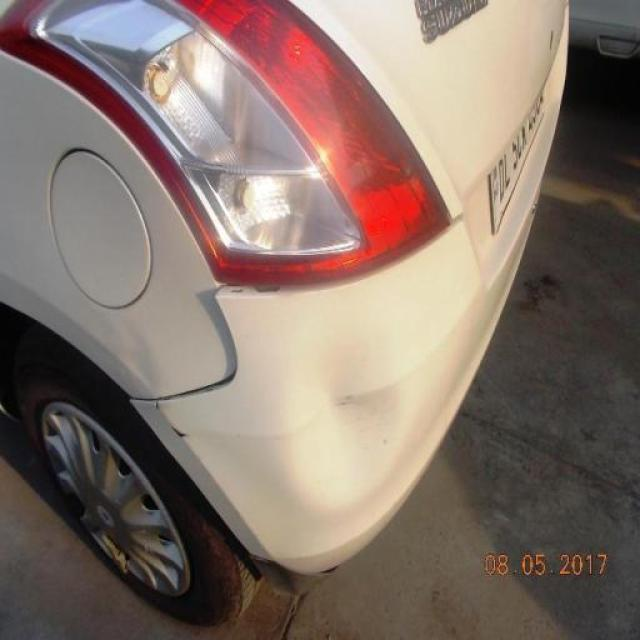dent: (283, 309, 419, 510)
misalignment: (133, 287, 243, 413)
scratch: (150, 396, 195, 442), (321, 392, 357, 418)
